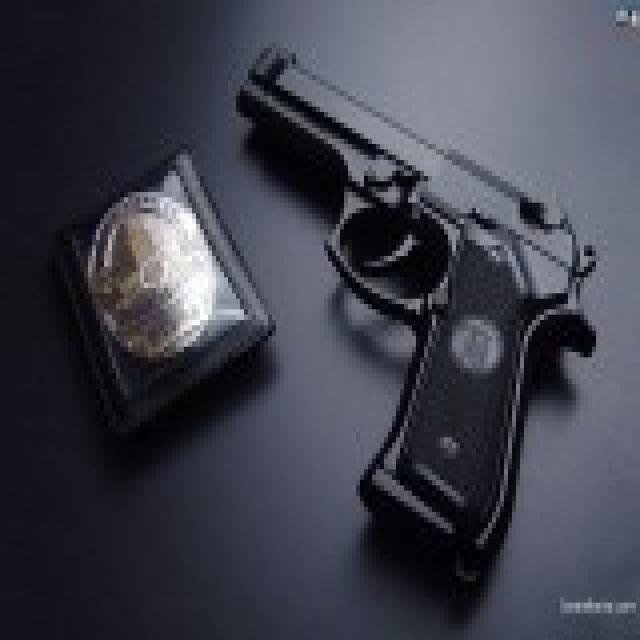Gun: (239, 24, 602, 580)
